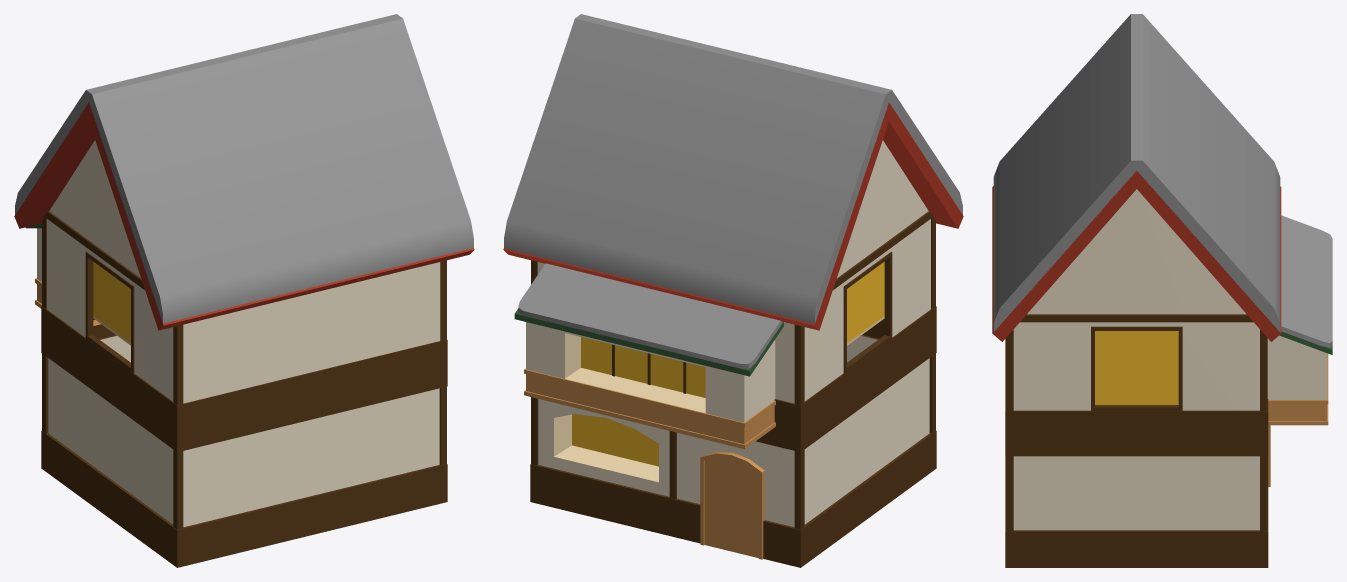
File: hosue_5.fbx
3 renders of one model, left to right at view 1: azimuth 30°, elevation 25°; view 2: azimuth 150°, elevation 25°; view 3: azimuth 270°, elevation 25°, orthographic. The views are drawn at different scales.
Parts seen in each view (by area): view 1: Object045, Object062, Object054; view 2: Object062, Object045, Object054; view 3: Object045, Object062, Object054.
Part boxes in pixels (x1=…): Object045: x1=14, y1=102, x2=474, y2=567; Object062: x1=15, y1=14, x2=473, y2=323; Object054: x1=93, y1=261, x2=130, y2=345; Object062: x1=504, y1=14, x2=962, y2=368; Object045: x1=503, y1=102, x2=963, y2=567; Object054: x1=572, y1=261, x2=884, y2=466; Object045: x1=992, y1=170, x2=1332, y2=567; Object062: x1=993, y1=14, x2=1332, y2=347; Object054: x1=1095, y1=331, x2=1178, y2=404.
Bounding box in the file's own units: 38.44 × 50.9 × 37.64.
